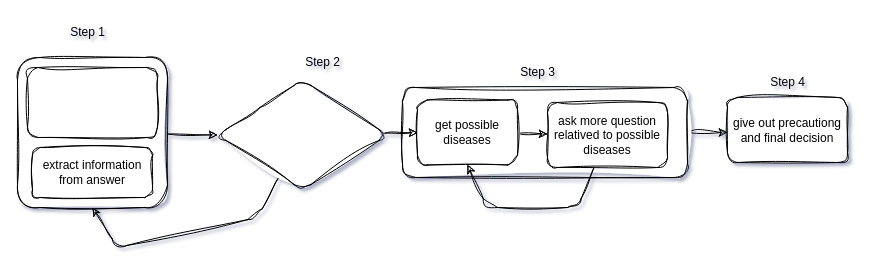
This 871x279 diagram has some shape labels left out. Here are the shapes that lost their labels. From the top down, the centre of each, then its label:
(92,102): Doctor: Greeting and guiding question Patient: Answer
(302,134): enough information?
